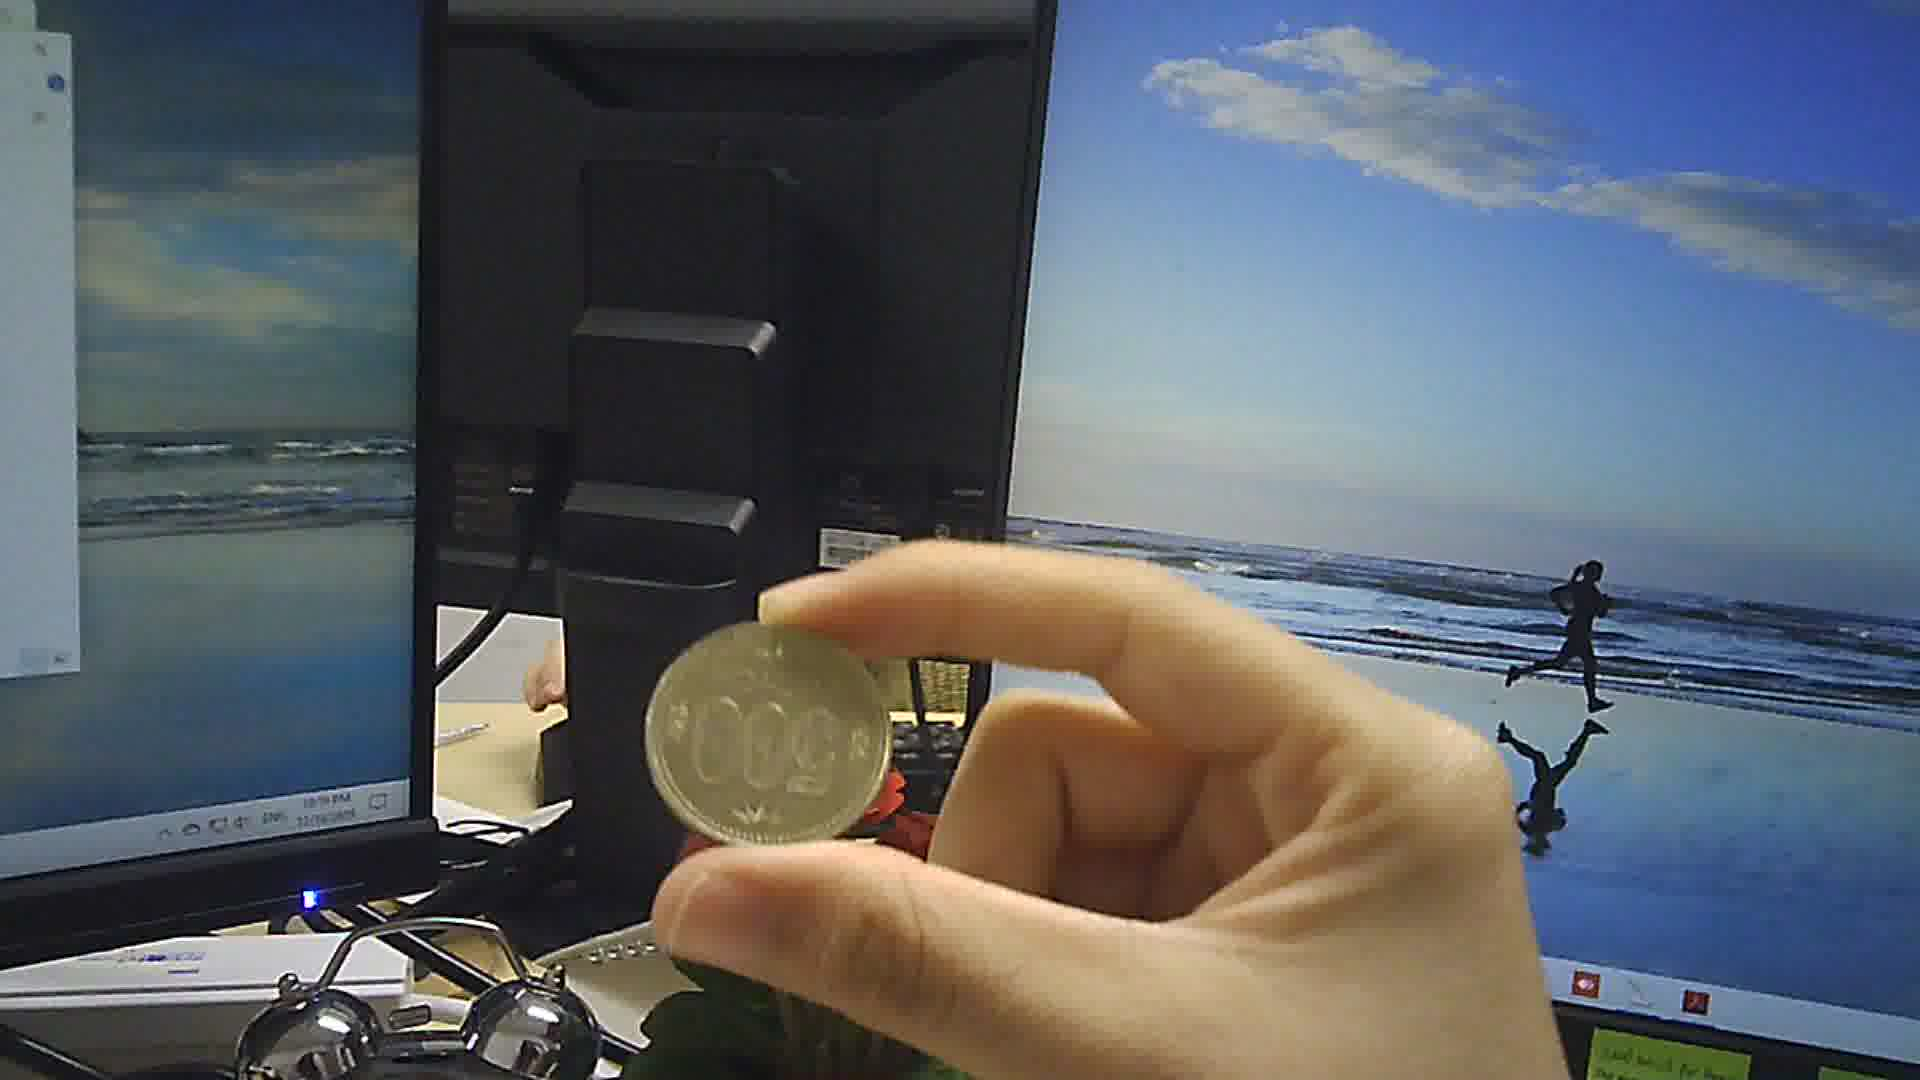500 Yen: (644, 618, 901, 851)
